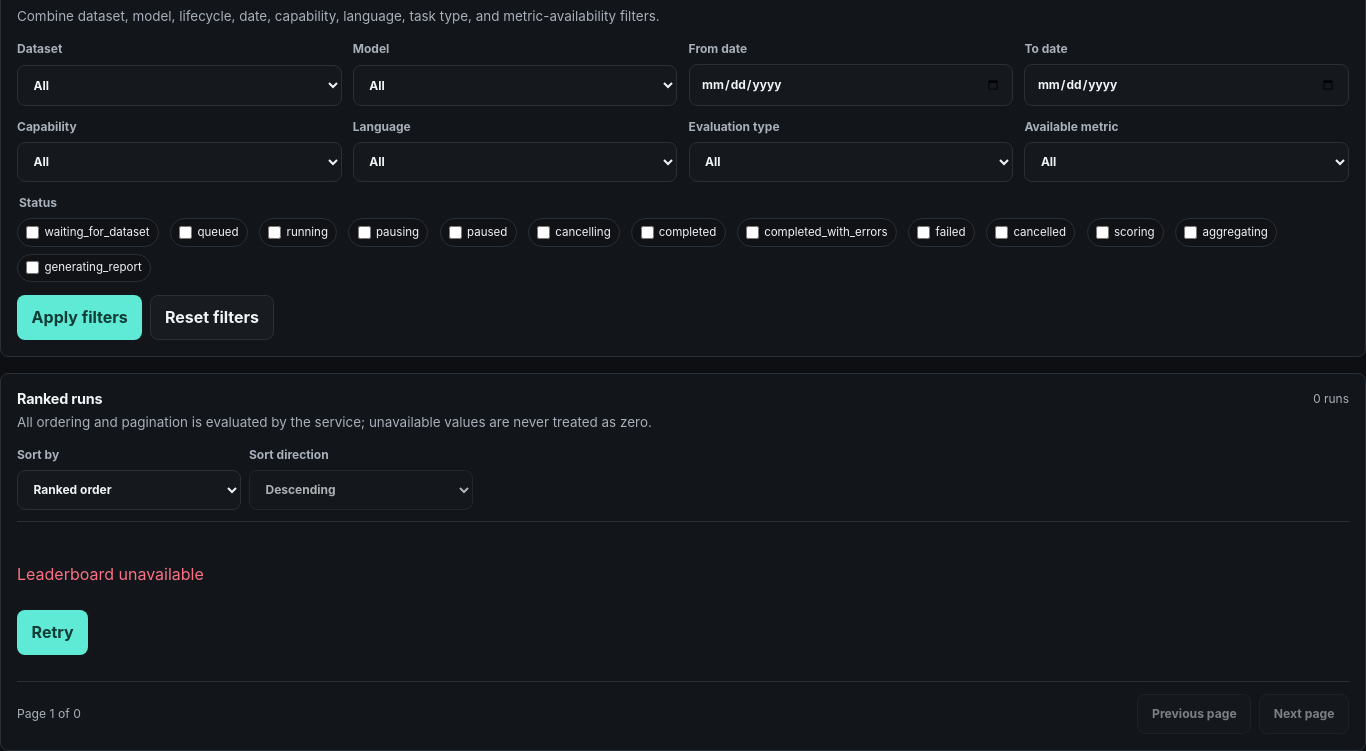
Test case: leaderboard workspace › keeps loading, errors, retry, and empty results explicit
(page scrolled)
expect the message reads "Leaderboard unavailable": met, box left=17, top=564, right=204, bottom=584
Click the button "Retry". click: [53, 632]
box: left=17, top=610, right=88, bottom=655
(page scrolled)
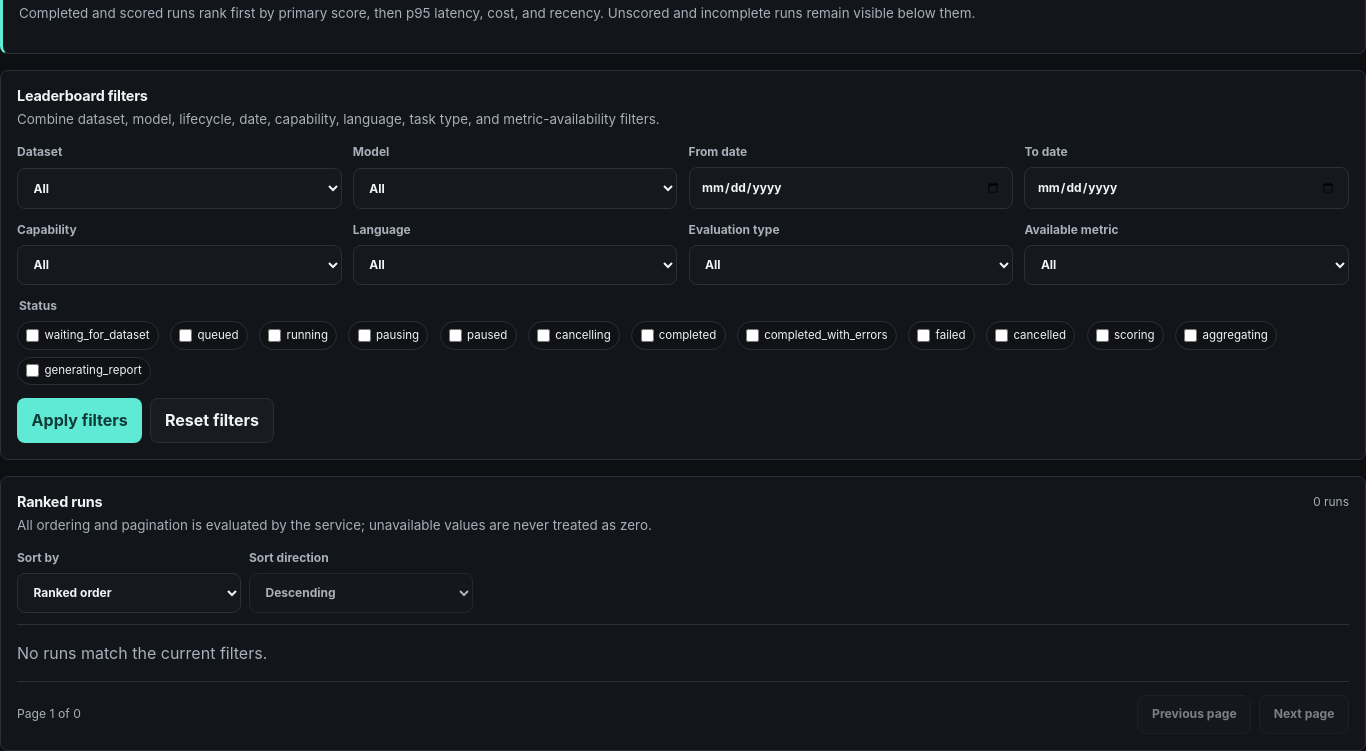
expect the text "No runs match the current filters." is shown: met, box left=17, top=643, right=267, bottom=663
